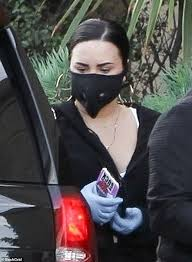mask: (64, 42, 122, 108)
